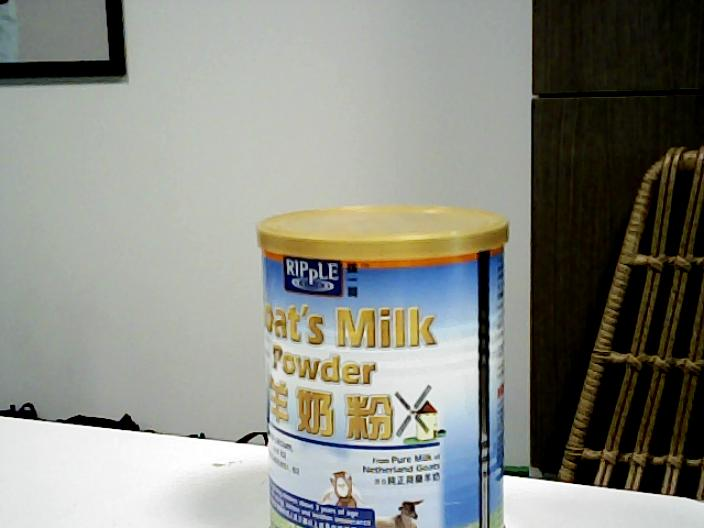Babymilk-powder_400-499g_Halal_NonHealthy: (266, 207, 506, 528)
